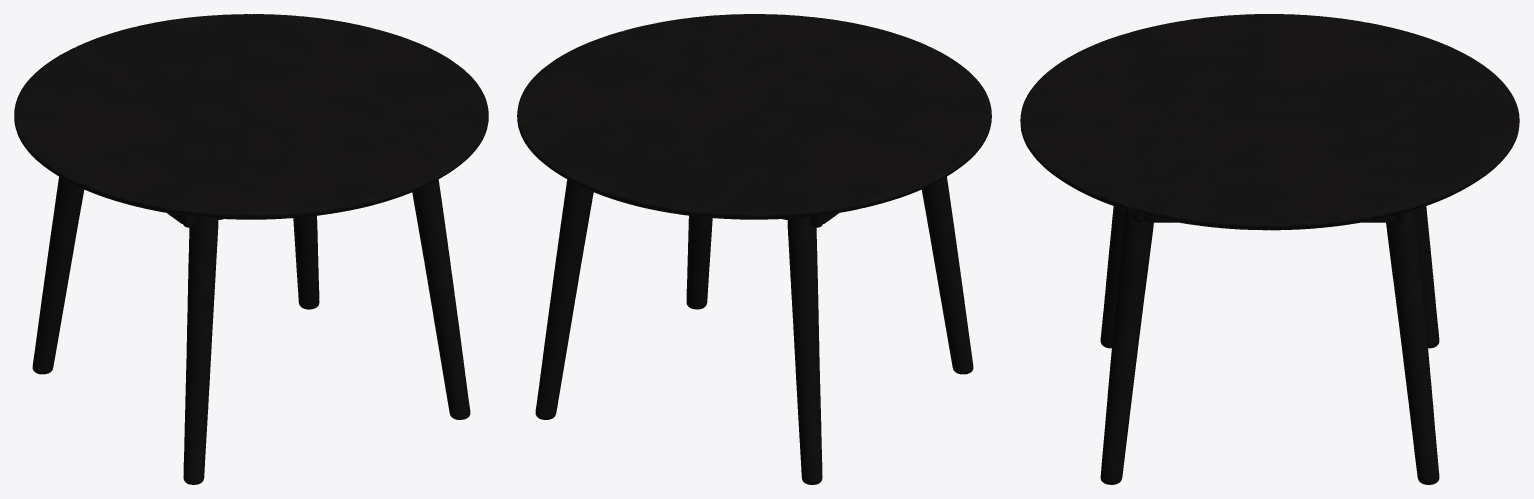
Rendered from hugge-98600-trellis2-q8-pbr.glb.
3 views of the same model, side by side, from view 1: azimuth 30°, elevation 25°; view 2: azimuth 150°, elevation 25°; view 3: azimuth 270°, elevation 25° (orthographic). The views are drawn at different scales.
Parts seen in each view (by area): view 1: 0; view 2: 0; view 3: 0.
Part boxes in pixels (x1,y1,x2,y2): 0: [14, 14, 488, 484]; 0: [517, 14, 991, 484]; 0: [1020, 14, 1519, 484].
Bounding box in the file's own units: 1.15 × 0.75 × 1.15.
Materials: 1 (1 with a texture image).
